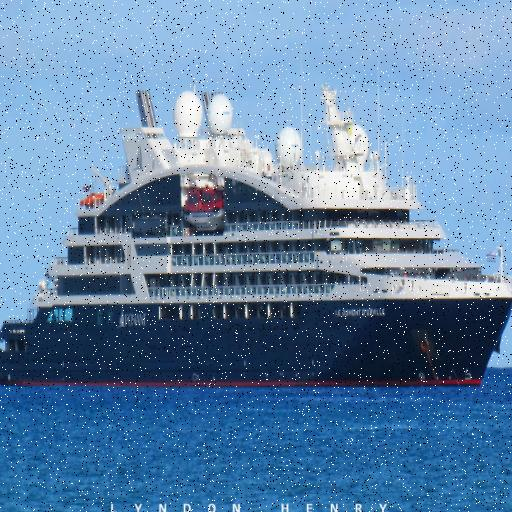cruises: (1, 54, 512, 405)
